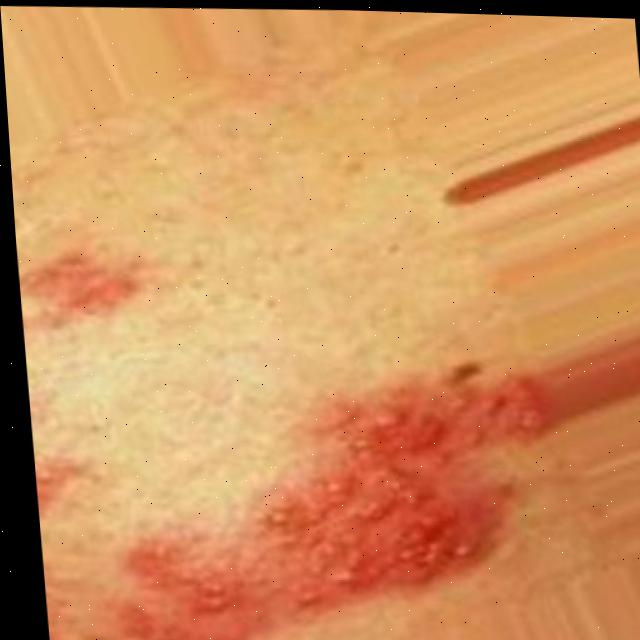Shingles: (161, 372, 542, 640), (17, 255, 131, 311)
